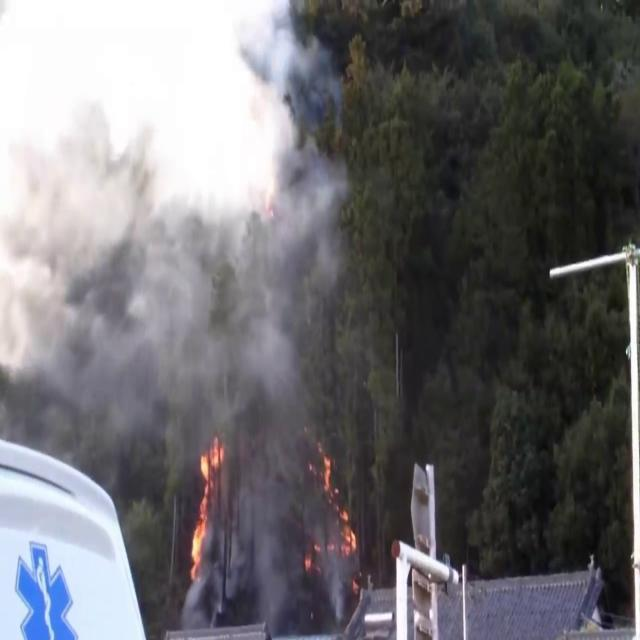Fire: (186, 434, 226, 580)
Smoke: (1, 2, 350, 486)
